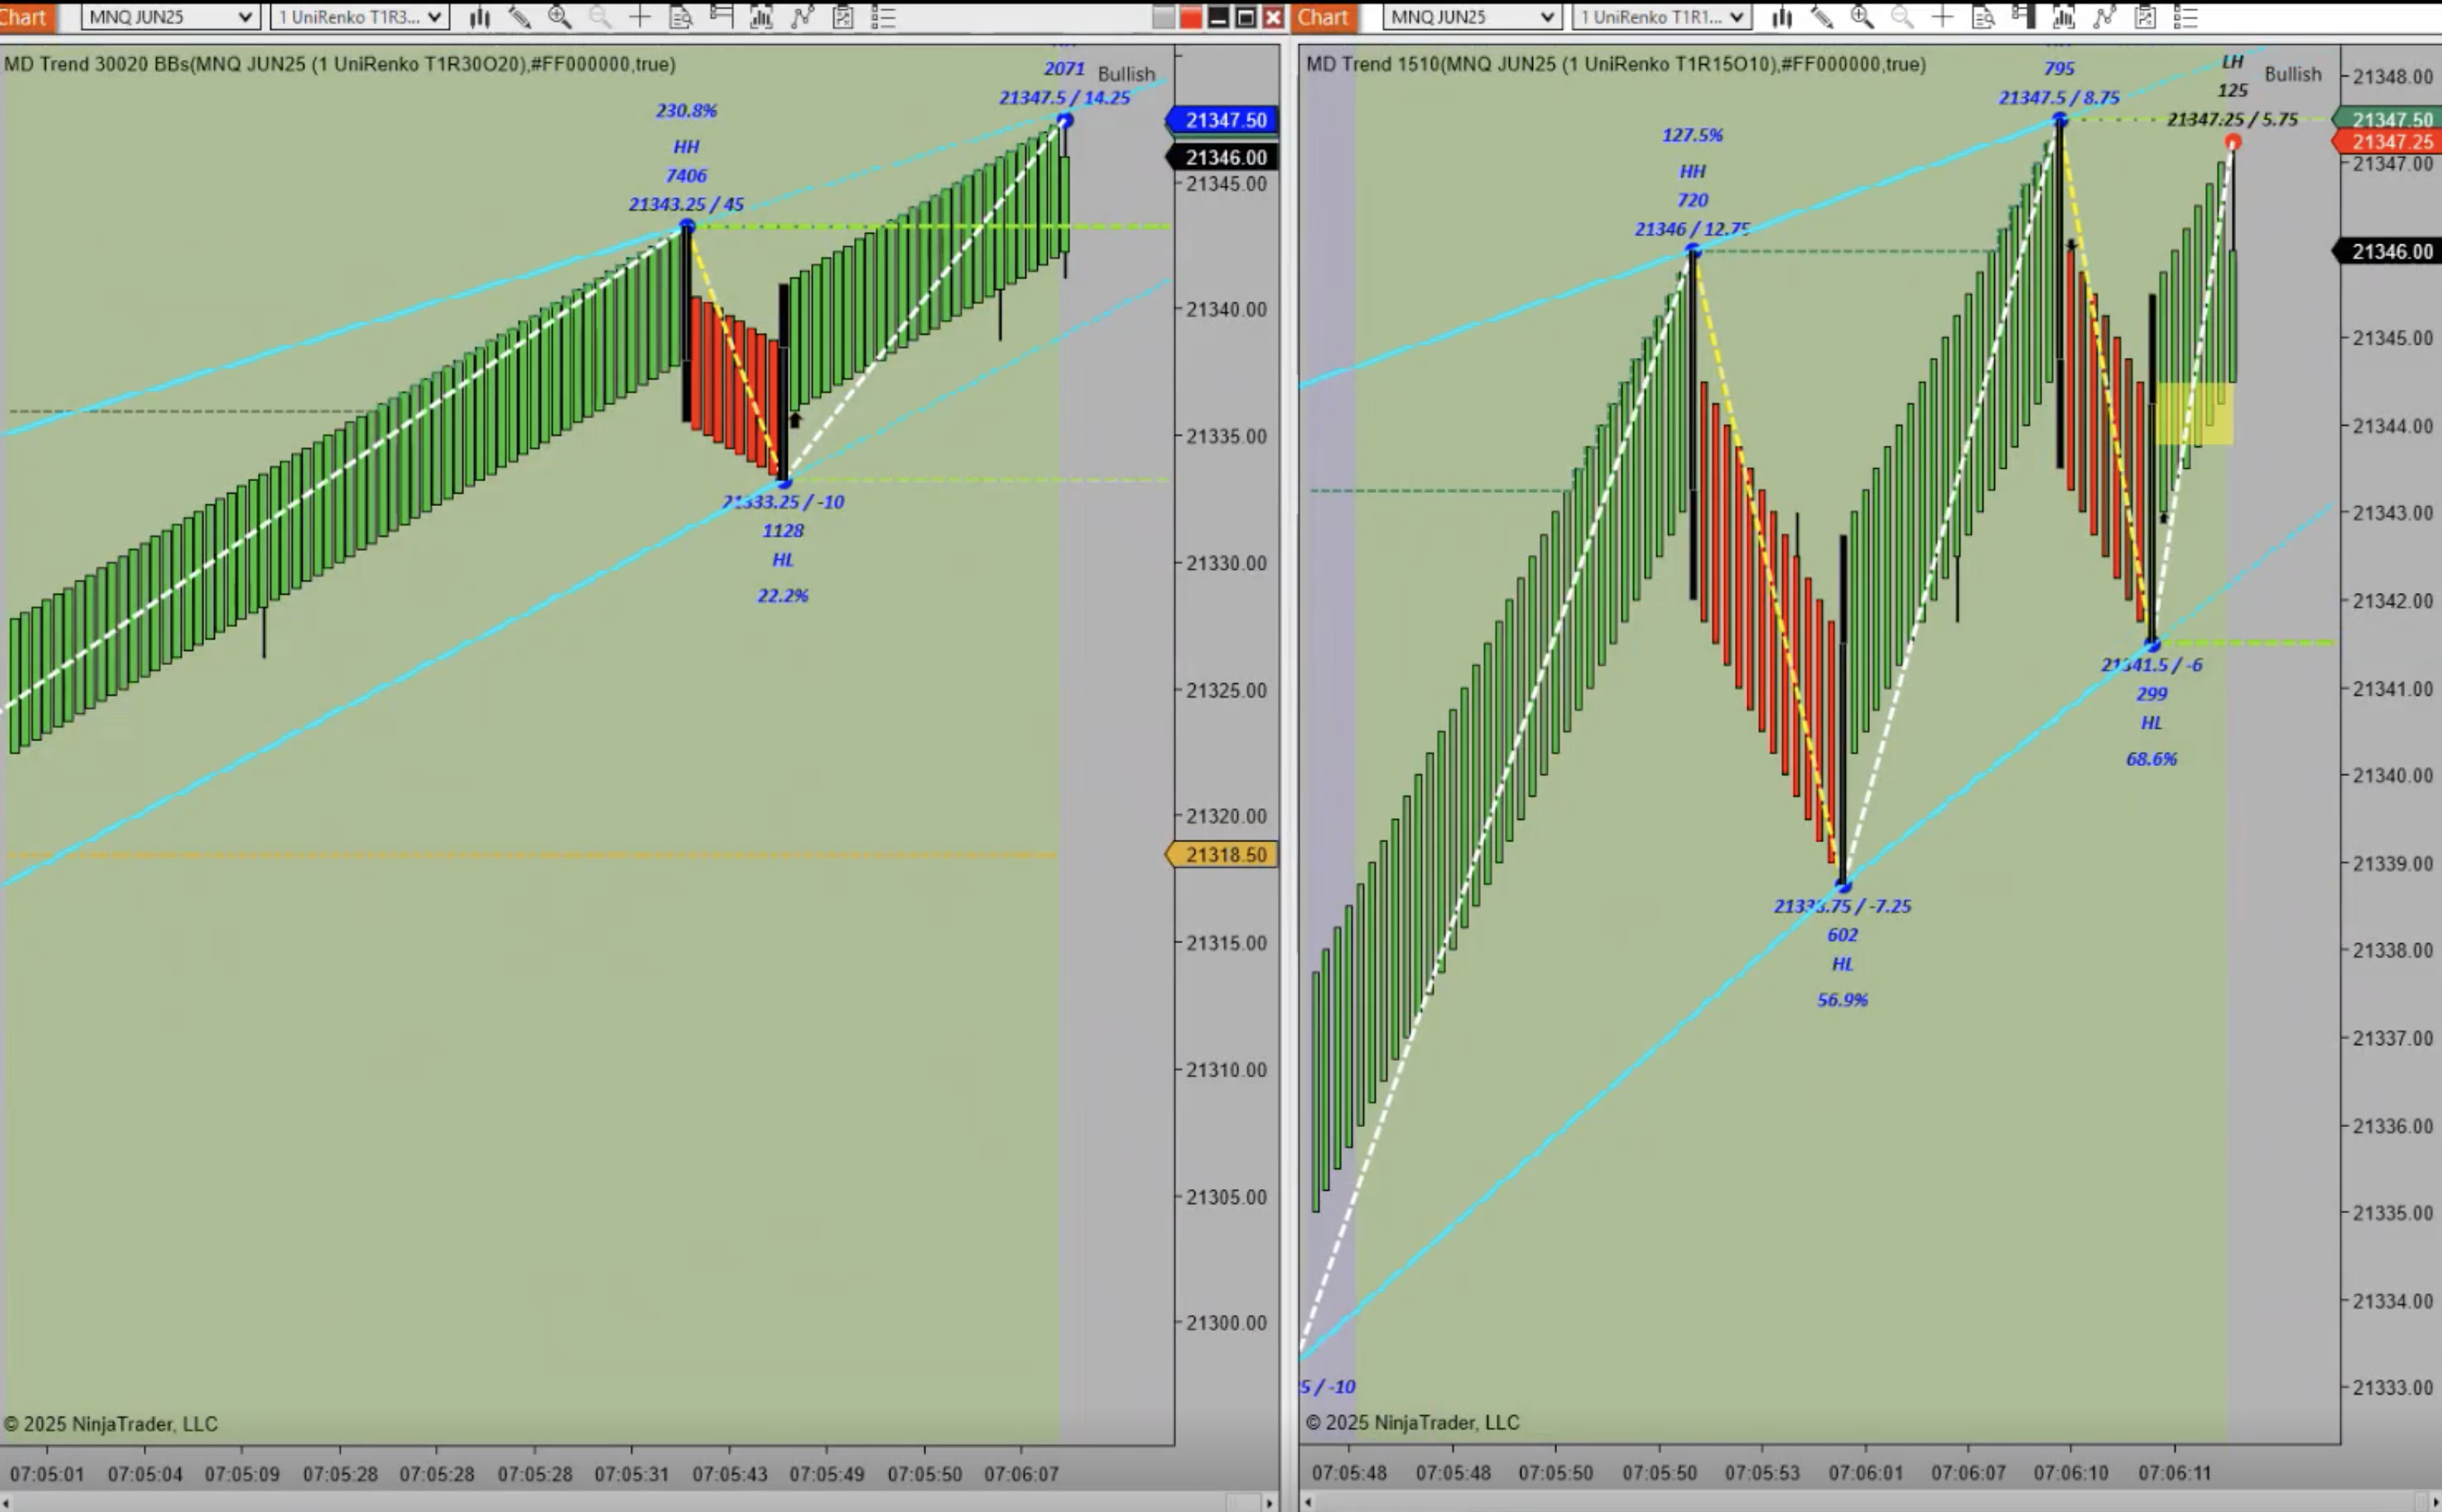candle: (2145, 288, 2170, 645), (1685, 246, 1706, 609), (2053, 112, 2069, 480), (1837, 530, 1852, 896), (675, 218, 699, 434), (774, 276, 797, 490)
